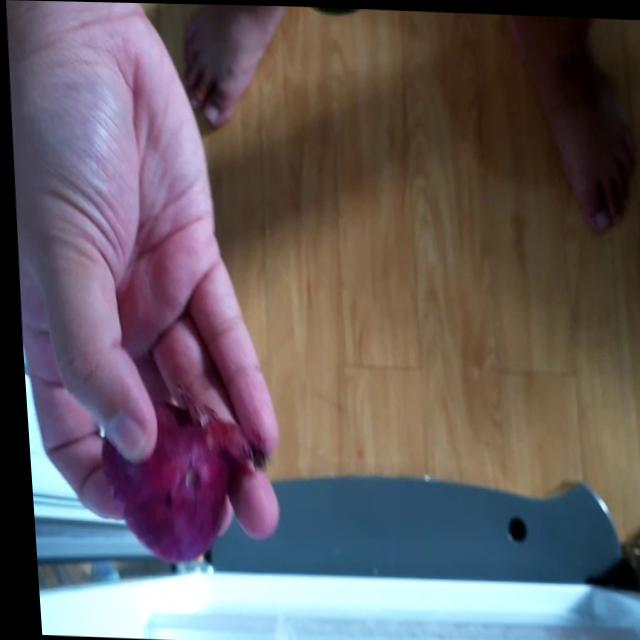onion: (91, 399, 260, 571)
